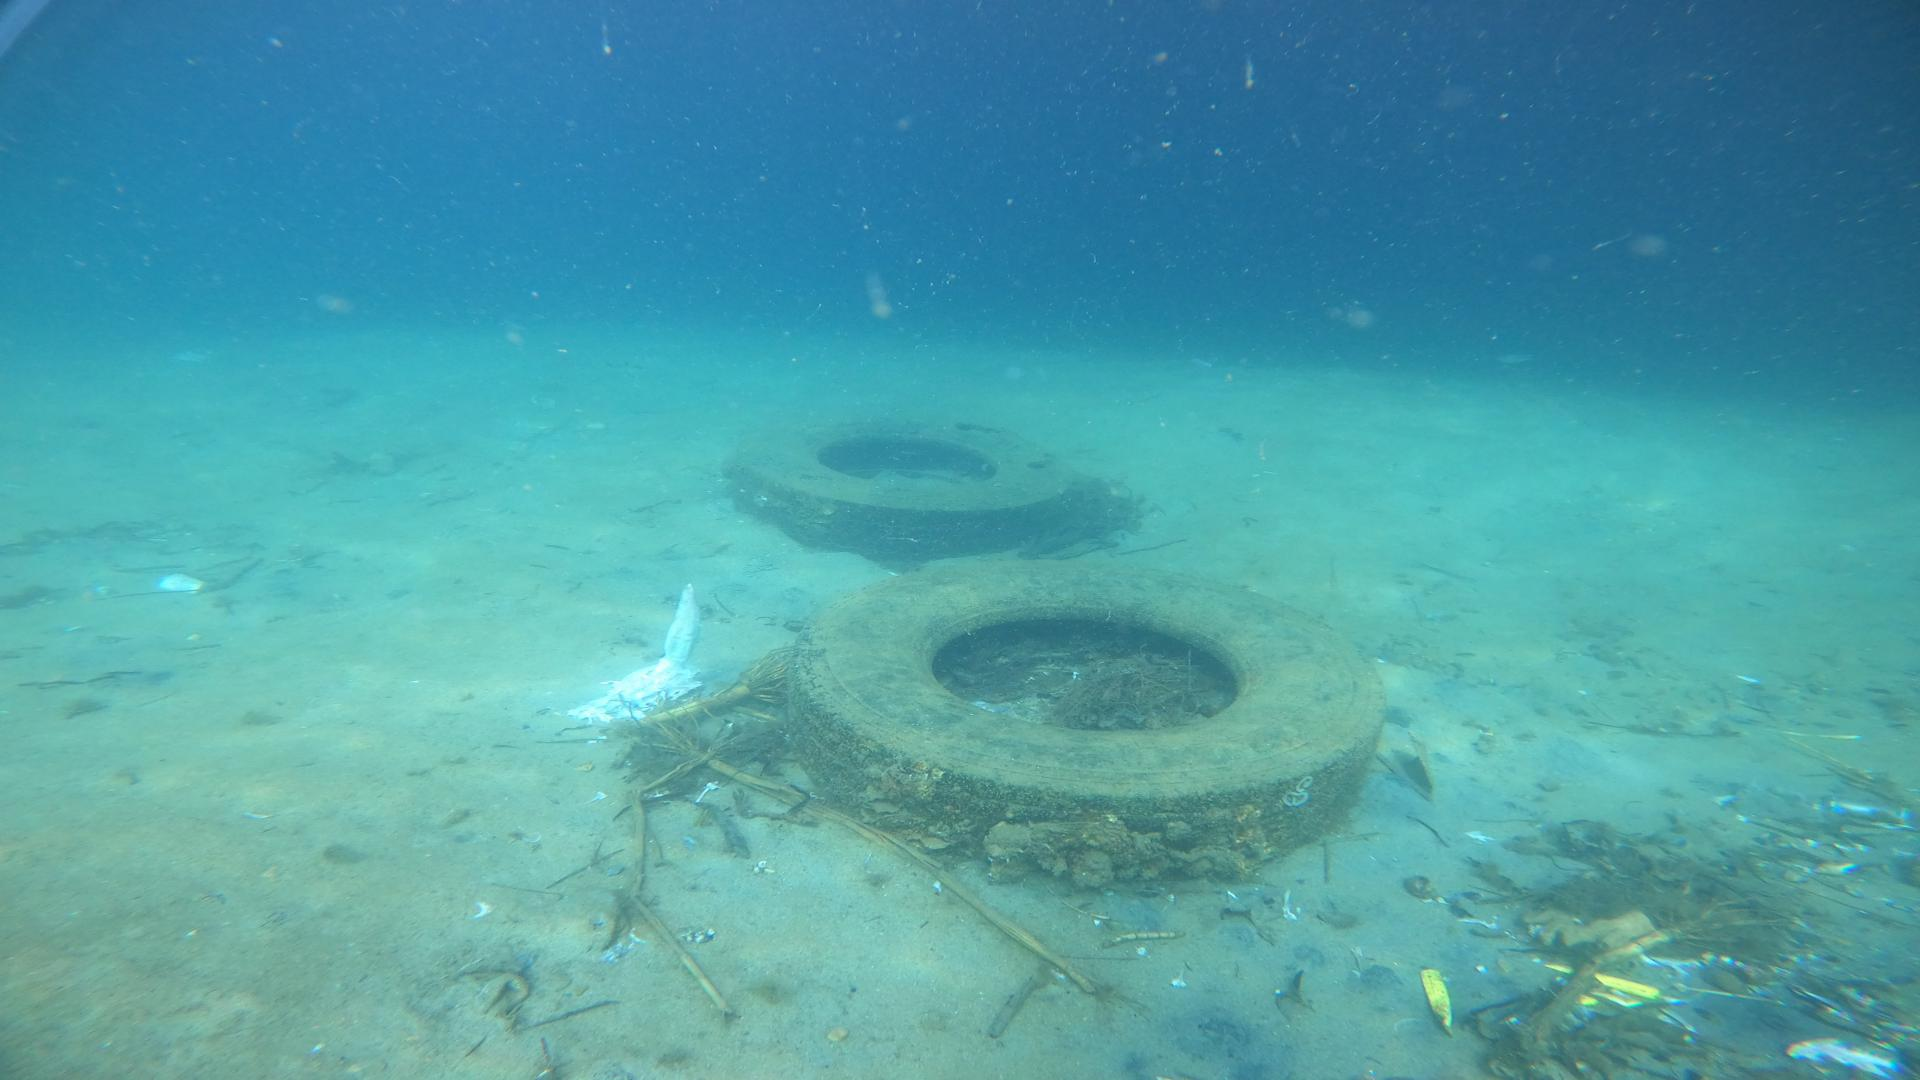tire: (785, 550, 1385, 877), (724, 407, 1076, 553)
